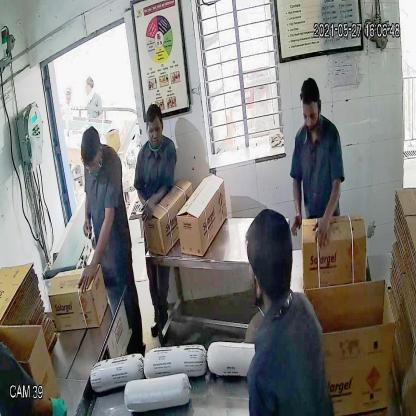no_goggles: (301, 103, 320, 126)
